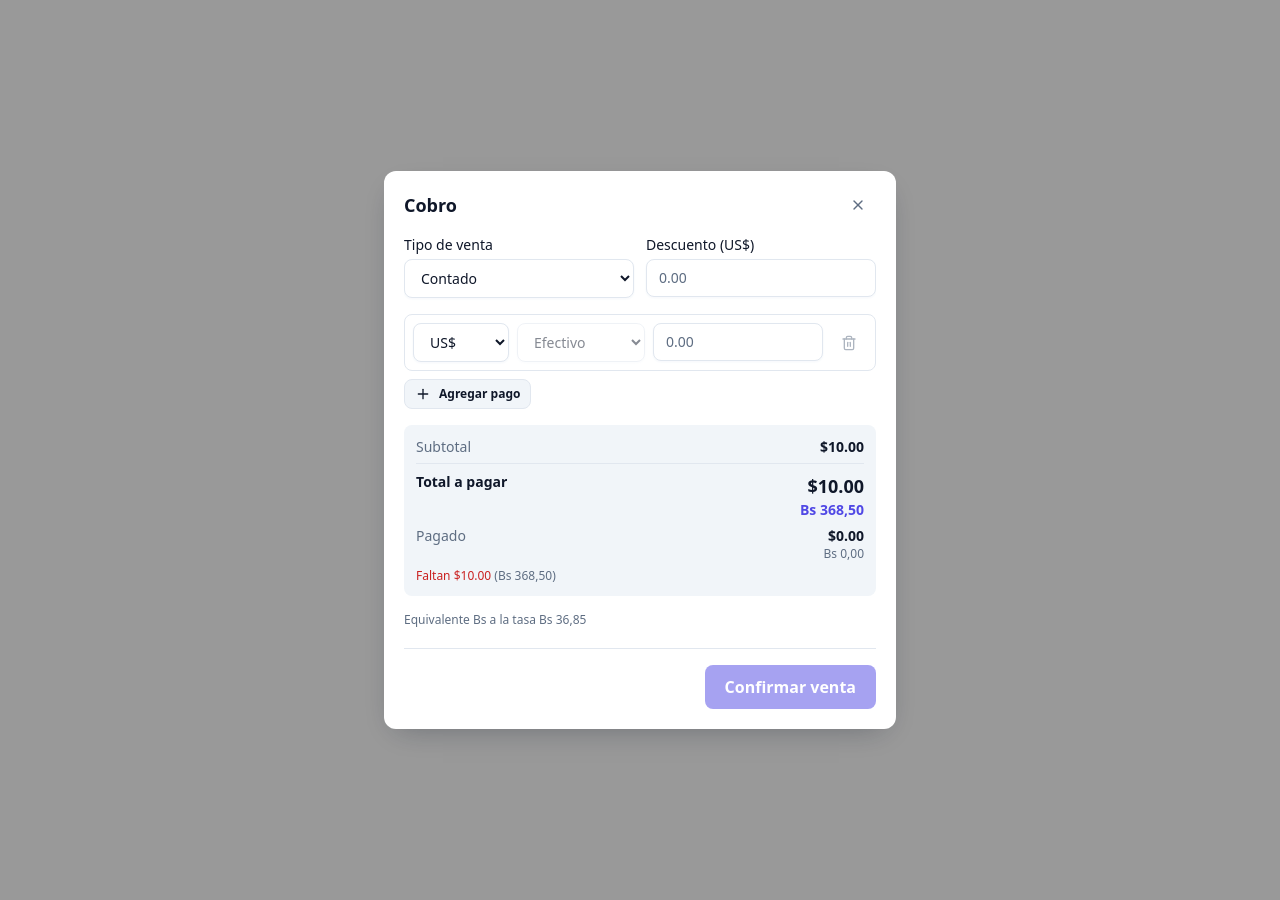
Test: CobroModal › en US$ solo permite efectivo
Select "Bs" in the dropdown named "Moneda pago" at (461, 342), box [413, 323, 509, 362]
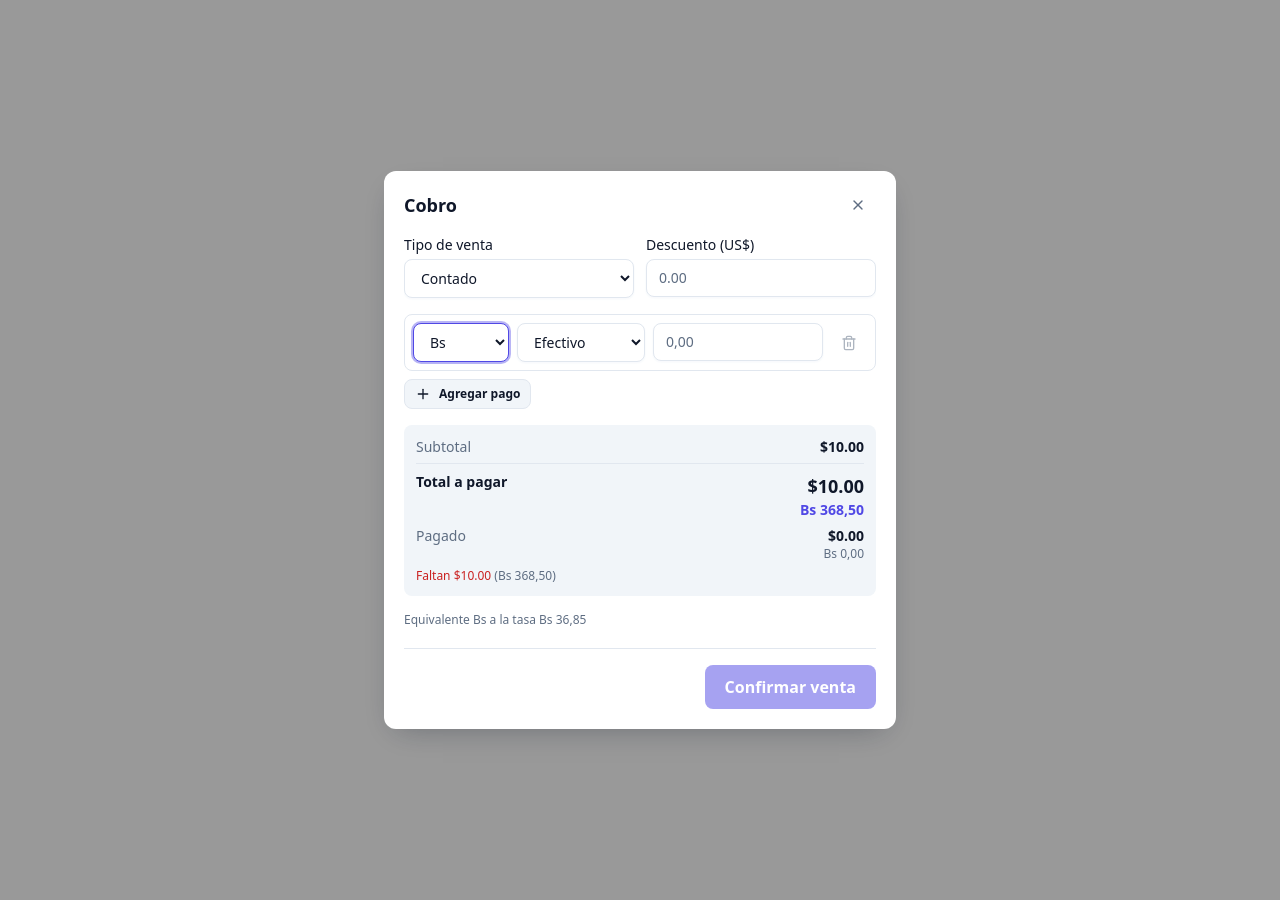
Select "Punto" in the dropdown named "Tipo pago" at (581, 342), box [517, 323, 645, 362]
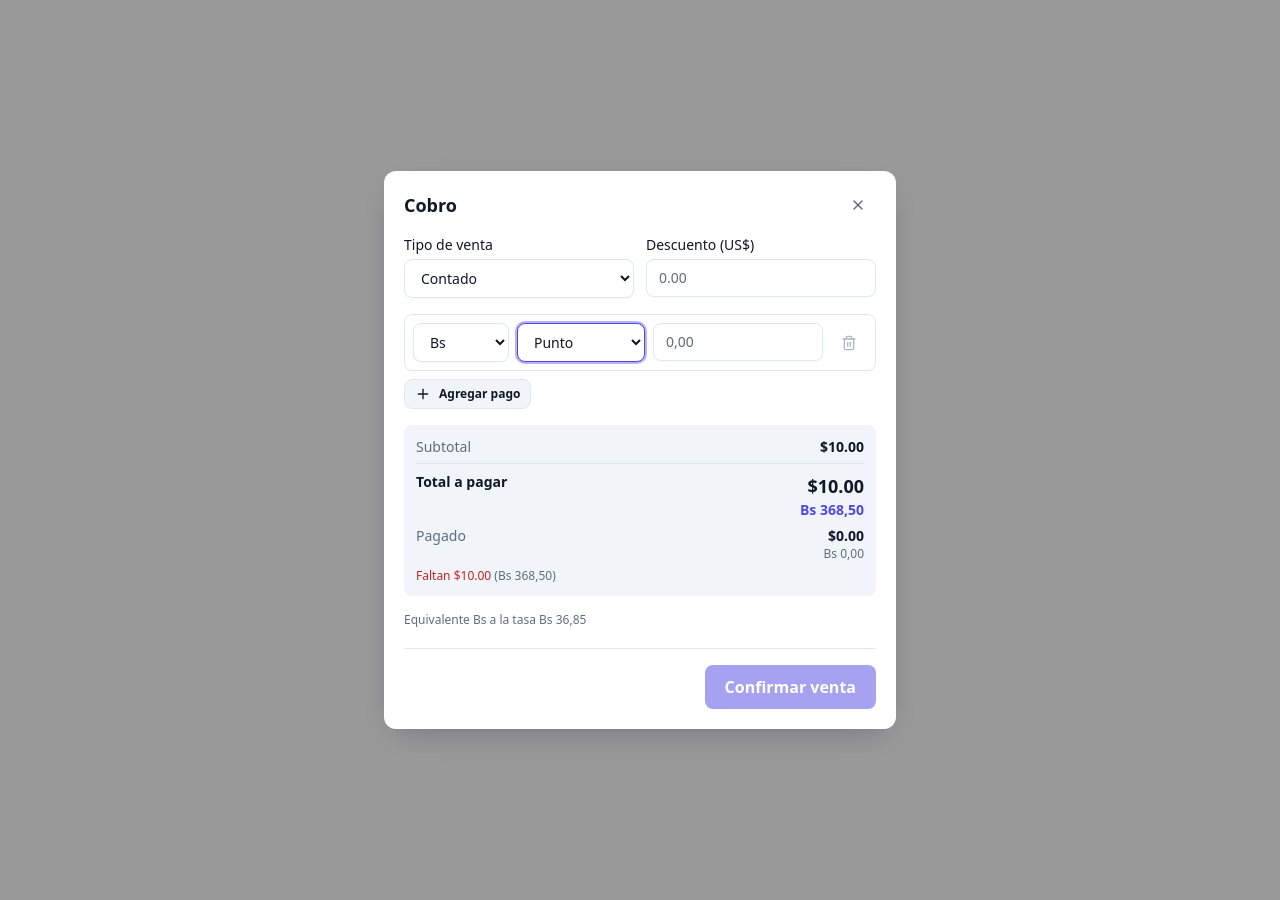
Expected: the dropdown named "Tipo pago" is enabled, [517, 323, 645, 362]
Select "US$" in the dropdown named "Moneda pago" at (461, 342), box [413, 323, 509, 362]
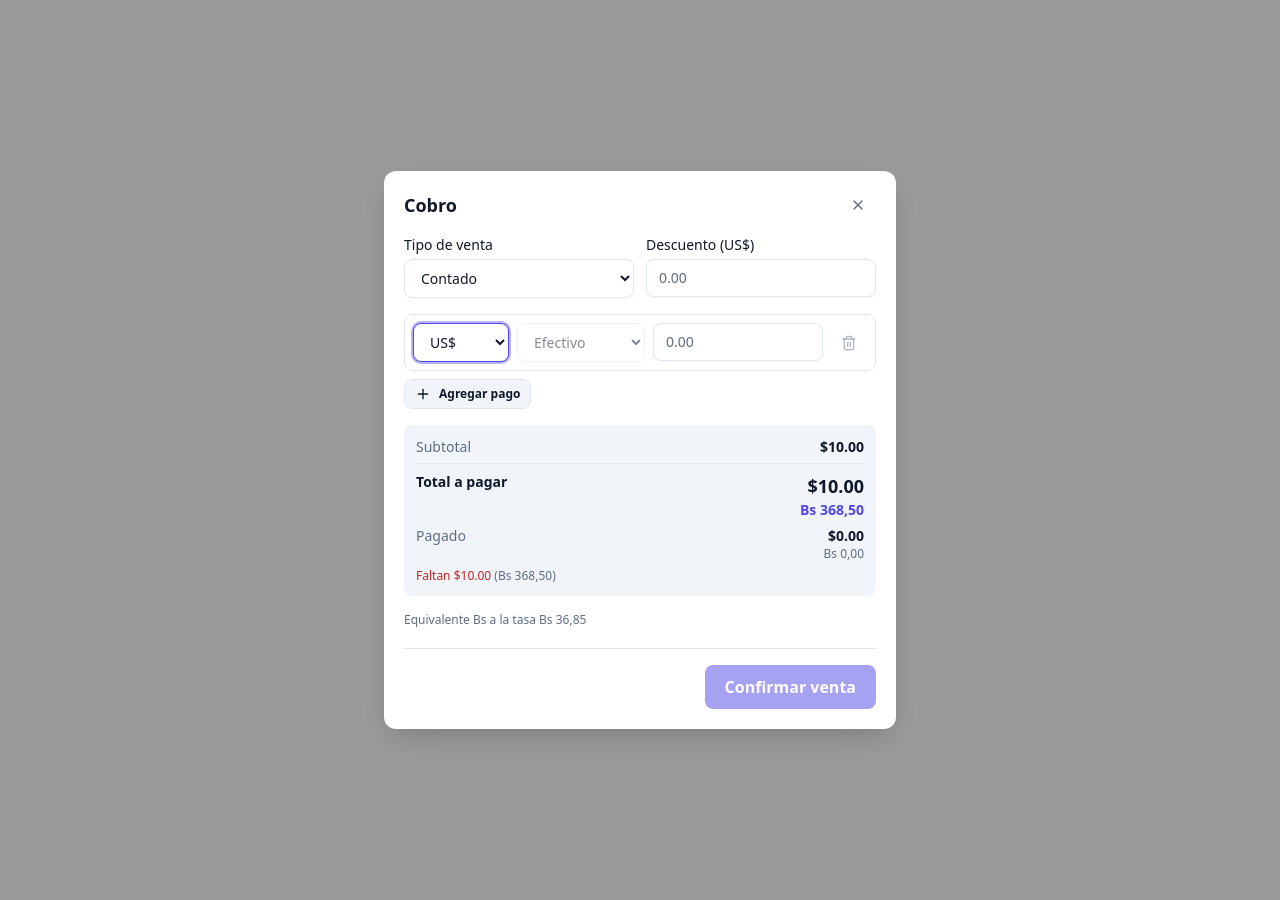
Expected: the dropdown named "Tipo pago" is disabled, [517, 323, 645, 362]
